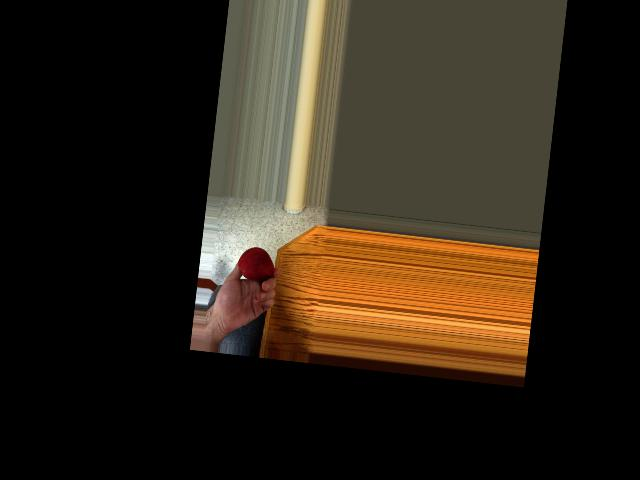apple: (233, 243, 276, 286)
